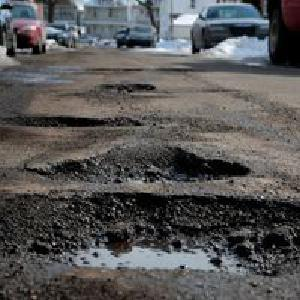pothole: (1, 192, 300, 287), (22, 144, 252, 186), (2, 112, 147, 129), (94, 81, 157, 96)
